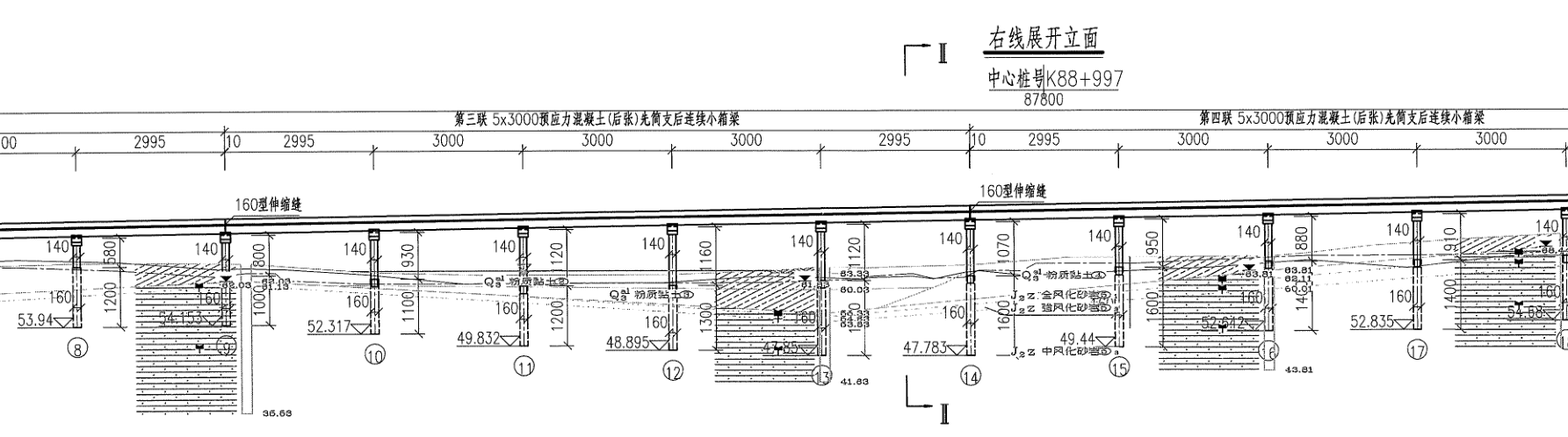A: (1, 91, 1562, 125)
B: (964, 109, 1568, 157), (214, 110, 983, 134)
C: (897, 211, 988, 393), (598, 217, 690, 387), (1341, 204, 1435, 367), (449, 219, 542, 383), (301, 225, 394, 371), (769, 214, 839, 390), (1214, 208, 1286, 366), (11, 230, 95, 365), (1074, 209, 1138, 383), (155, 228, 240, 359)
